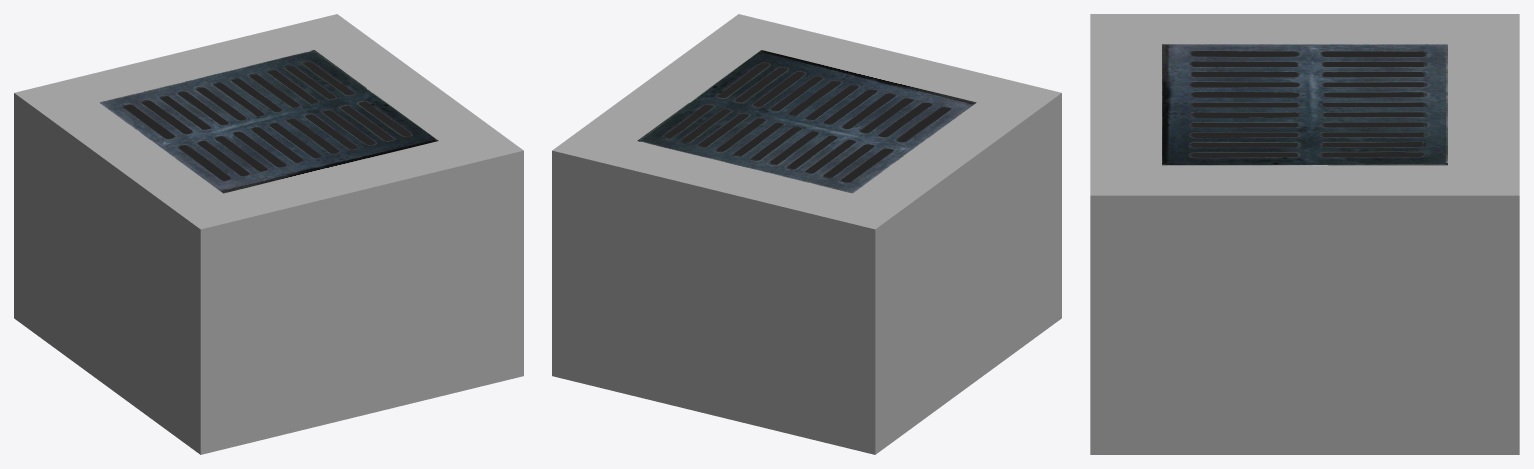
3 renders of one model, left to right at view 1: azimuth 30°, elevation 25°; view 2: azimuth 150°, elevation 25°; view 3: azimuth 270°, elevation 25°, orthographic. The views are drawn at different scales.
Visible parts, largest first — view 1: 543021; view 2: 543021; view 3: 543021.
Part boxes in pixels (box(x1,y1,x2,y2)): 543021: box(14, 14, 523, 454); 543021: box(552, 14, 1061, 454); 543021: box(1090, 14, 1519, 454).
Size of the model in its own units: 1.5 by 1 by 1.5.
Materials: 2 (1 with a texture image).
